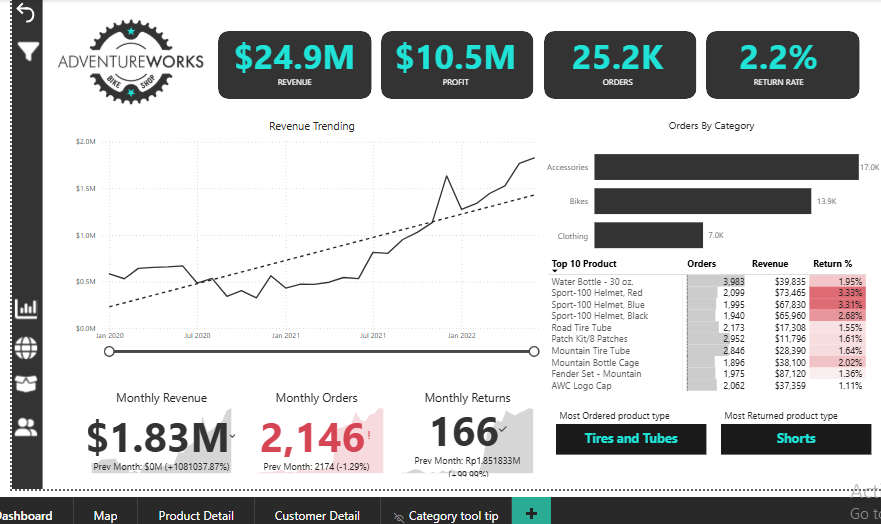

This screenshot's page, from the dashboard's own definition file:
{"tool":"powerbi","page":{"name":"Exac Dashboard","canvas":[1280,720],"ordinal":0},"visuals":[{"type":"card","fields":{"Values":["Measure tables(DAX).Total revenue"]},"box":[263.5,14.3,304.8,149.2],"z":0,"group":"g2"},{"type":"image","title":"AW Logo","box":[22.4,22.4,305.2,141.4],"z":0},{"type":"group","id":"g1","title":"KPI Background","box":[303.5,46.6,943.1,100],"z":0,"group":"g3"},{"type":"shape","box":[303.5,46.6,225.9,100],"z":0,"group":"g1"},{"type":"actionButton","box":[0,434.9,119,41.1],"z":0,"group":"g6"},{"type":"card","fields":{"Values":["Min(Product Subcategories Lookup.SubcategoryName)"]},"box":[800,625.6,220.5,44.9],"z":0,"group":"g4"},{"type":"card","fields":{"Values":["Min(Product Subcategories Lookup.SubcategoryName)"]},"box":[1042.3,625.6,220.5,44.9],"z":0,"group":"g5"},{"type":"shape","title":"Left Nav Background","box":[0,0,45,720.7],"z":1000},{"type":"group","id":"g2","title":"KPI Values","box":[263.5,14.3,1015.9,149.2],"z":1000,"group":"g3"},{"type":"card","fields":{"Values":["Measure tables(DAX).Total profit"]},"box":[500.5,14.3,304.8,149.2],"z":1000,"group":"g2"},{"type":"shape","box":[1020.7,46.6,225.9,100],"z":1000,"group":"g1"},{"type":"actionButton","box":[0,492.2,119,41.1],"z":1000,"group":"g6"},{"type":"textbox","box":[800,598.7,191,38.5],"z":1000,"group":"g4"},{"type":"textbox","box":[1042.3,598.7,191,38.5],"z":1000,"group":"g5"},{"type":"group","id":"g3","title":"KPI","box":[263.5,14.3,1015.9,149.2],"z":2000},{"type":"card","fields":{"Values":["Measure tables(DAX).Total orders"]},"box":[737.6,14.3,304.8,149.2],"z":2000,"group":"g2"},{"type":"shape","box":[543.7,46.6,224.1,100],"z":2000,"group":"g1"},{"type":"actionButton","box":[0,545.1,119,41.1],"z":2000,"group":"g6"},{"type":"card","fields":{"Values":["Measure tables(DAX).Return rate"]},"box":[974.6,14.3,304.8,149.2],"z":3000,"group":"g2"},{"type":"shape","box":[782.2,46.6,224.1,100],"z":3000,"group":"g1"},{"type":"lineChart","title":"Revenue Trending","fields":{"Y":["Measure tables(DAX).Total revenue"],"Category":["Calendar Lookup.Year","Calendar Lookup.Start of Quarter","Calendar Lookup.Start of Month"]},"box":[88.2,174.9,705.3,354.1],"z":3000},{"type":"actionButton","box":[0,608.3,119,41.1],"z":3000,"group":"g6"},{"type":"kpi","title":"Monthly Returns","fields":{"TrendLine":["Calendar Lookup.Start of Month"],"Indicator":["Measure tables(DAX).Total returns"],"Goal":["Measure tables(DAX).previous month return"]},"box":[567.2,573.1,204.2,129.3],"z":4000},{"type":"kpi","title":"Monthly Revenue","fields":{"Indicator":["Measure tables(DAX).Total revenue"],"TrendLine":["Calendar Lookup.Start of Month"],"Goal":["Measure tables(DAX).previous month revenue"]},"box":[111.7,573.1,216,129.3],"z":5000},{"type":"kpi","title":"Monthly Orders","fields":{"TrendLine":["Calendar Lookup.Start of Month"],"Indicator":["Measure tables(DAX).Total orders"],"Goal":["Measure tables(DAX).previous month orders"]},"box":[343.8,573.1,207.2,129.3],"z":6000},{"type":"clusteredBarChart","title":"Orders By Category","fields":{"Category":["Product Categories Lookup.CategoryName"],"Y":["Measure tables(DAX).Total orders"]},"box":[776.3,175,503.9,218.4],"z":7000},{"type":"pivotTable","fields":{"Rows":["Product Lookup.ProductName"],"Values":["Measure tables(DAX).Total orders","Measure tables(DAX).Total revenue","Measure tables(DAX).Return rate"]},"box":[782.6,375.4,497.1,208.7],"z":8000},{"type":"group","id":"g4","title":"Group 1","box":[800,598.7,220.5,71.8],"z":9000},{"type":"group","id":"g5","title":"Group 1","box":[1042.3,598.7,220.5,71.8],"z":10000},{"type":"actionButton","box":[-0.2,0,99.9,39.7],"z":11000},{"type":"group","id":"g6","title":"Navigation Button","box":[0,434.9,119,214.5],"z":12000},{"type":"actionButton","box":[4.4,57.3,45.6,39.7],"z":13000}]}

Visuals, with their boxes on the page's 1280x720 design canvas (x1, y1, x2, y2). These are canvas units, not pixel positions in the 881x524 screenshot, which may show the page scaled, cropped or inside an application window:
card - Measure tables(DAX).Total revenue: select_region(264, 14, 568, 164)
"AW Logo" image: select_region(22, 22, 328, 164)
"KPI Background" group: select_region(304, 47, 1247, 147)
shape: select_region(304, 47, 529, 147)
actionButton: select_region(0, 435, 119, 476)
card - Min(Product Subcategories Lookup.SubcategoryName): select_region(800, 626, 1020, 670)
card - Min(Product Subcategories Lookup.SubcategoryName): select_region(1042, 626, 1263, 670)
"Left Nav Background" shape: select_region(0, 0, 45, 721)
"KPI Values" group: select_region(264, 14, 1279, 164)
card - Measure tables(DAX).Total profit: select_region(500, 14, 805, 164)
shape: select_region(1021, 47, 1247, 147)
actionButton: select_region(0, 492, 119, 533)
textbox: select_region(800, 599, 991, 637)
textbox: select_region(1042, 599, 1233, 637)
"KPI" group: select_region(264, 14, 1279, 164)
card - Measure tables(DAX).Total orders: select_region(738, 14, 1042, 164)
shape: select_region(544, 47, 768, 147)
actionButton: select_region(0, 545, 119, 586)
card - Measure tables(DAX).Return rate: select_region(975, 14, 1279, 164)
shape: select_region(782, 47, 1006, 147)
"Revenue Trending" lineChart: select_region(88, 175, 794, 529)
actionButton: select_region(0, 608, 119, 649)
"Monthly Returns" kpi: select_region(567, 573, 771, 702)
"Monthly Revenue" kpi: select_region(112, 573, 328, 702)
"Monthly Orders" kpi: select_region(344, 573, 551, 702)
"Orders By Category" clusteredBarChart: select_region(776, 175, 1280, 393)
pivotTable - Product Lookup.ProductName x Measure tables(DAX).Total orders: select_region(783, 375, 1280, 584)
"Group 1" group: select_region(800, 599, 1020, 670)
"Group 1" group: select_region(1042, 599, 1263, 670)
actionButton: select_region(0, 0, 100, 40)
"Navigation Button" group: select_region(0, 435, 119, 649)
actionButton: select_region(4, 57, 50, 97)
